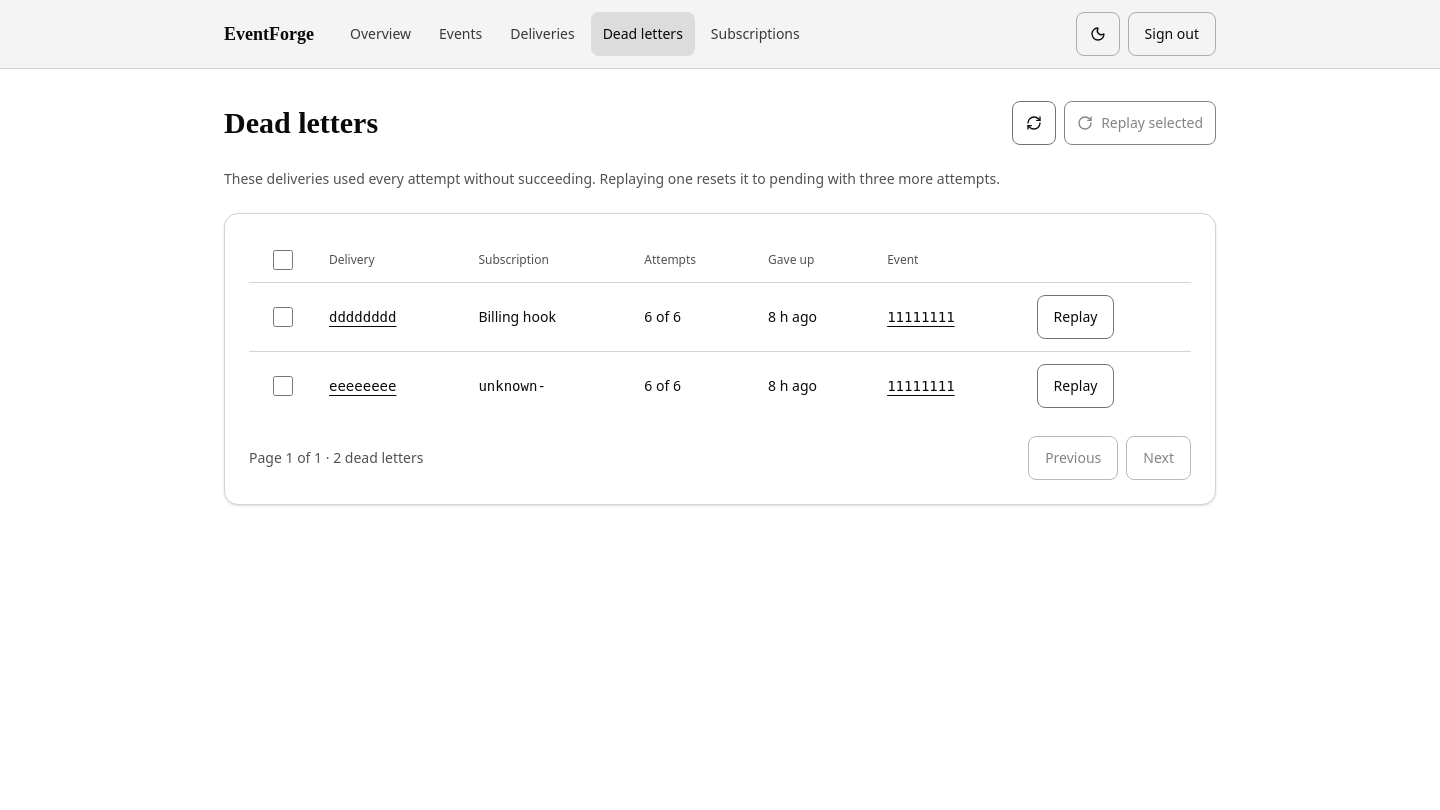
it: Replaying a selection › sends the chosen IDs in one request
The width and height of the screenshot is (1440, 810).
Click the checkbox named "Select all on this page" at {"x": 283, "y": 260}, box top-left (273, 250), bottom-right (293, 270)
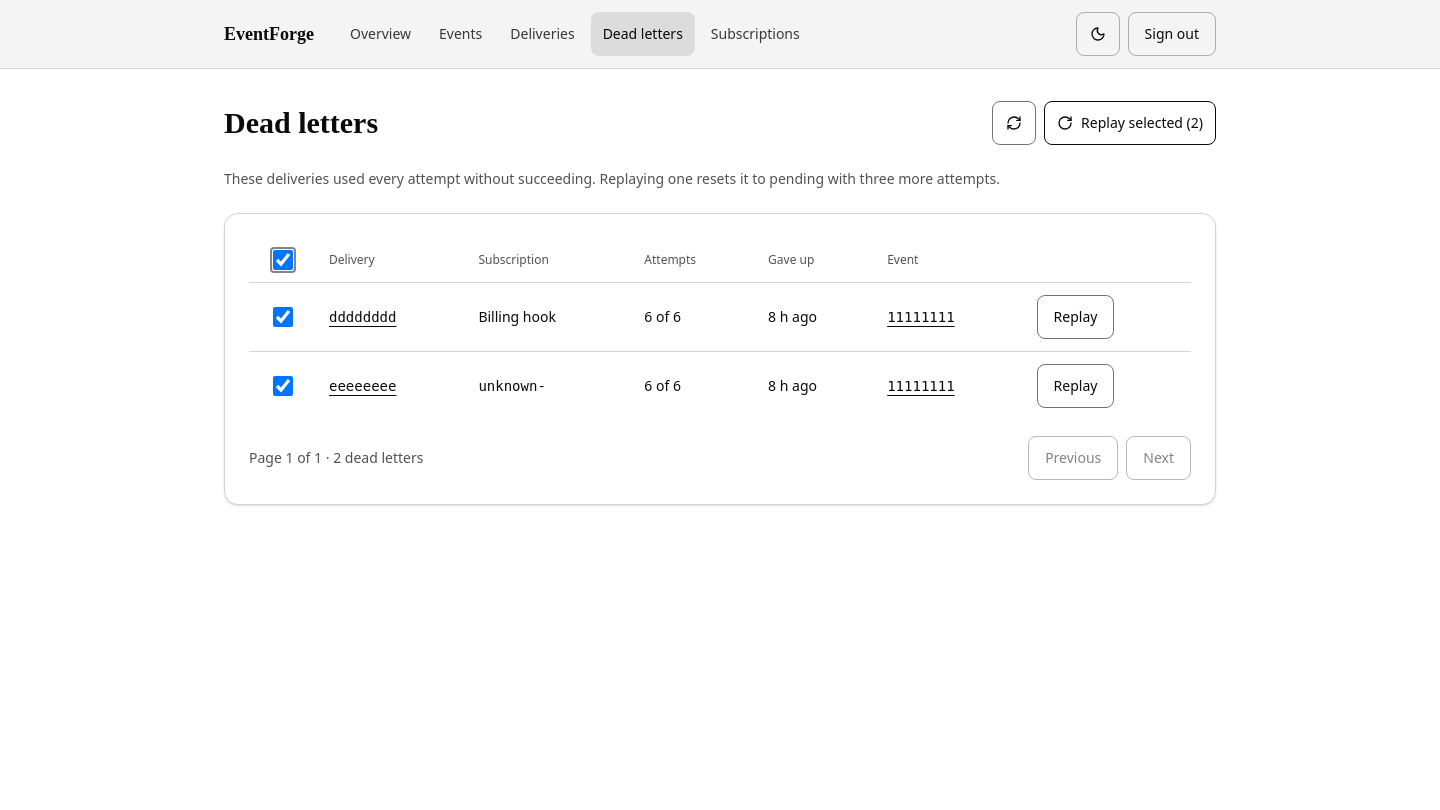
Click the button "Replay selected (2)" at {"x": 1130, "y": 123}, box top-left (1044, 101), bottom-right (1216, 145)
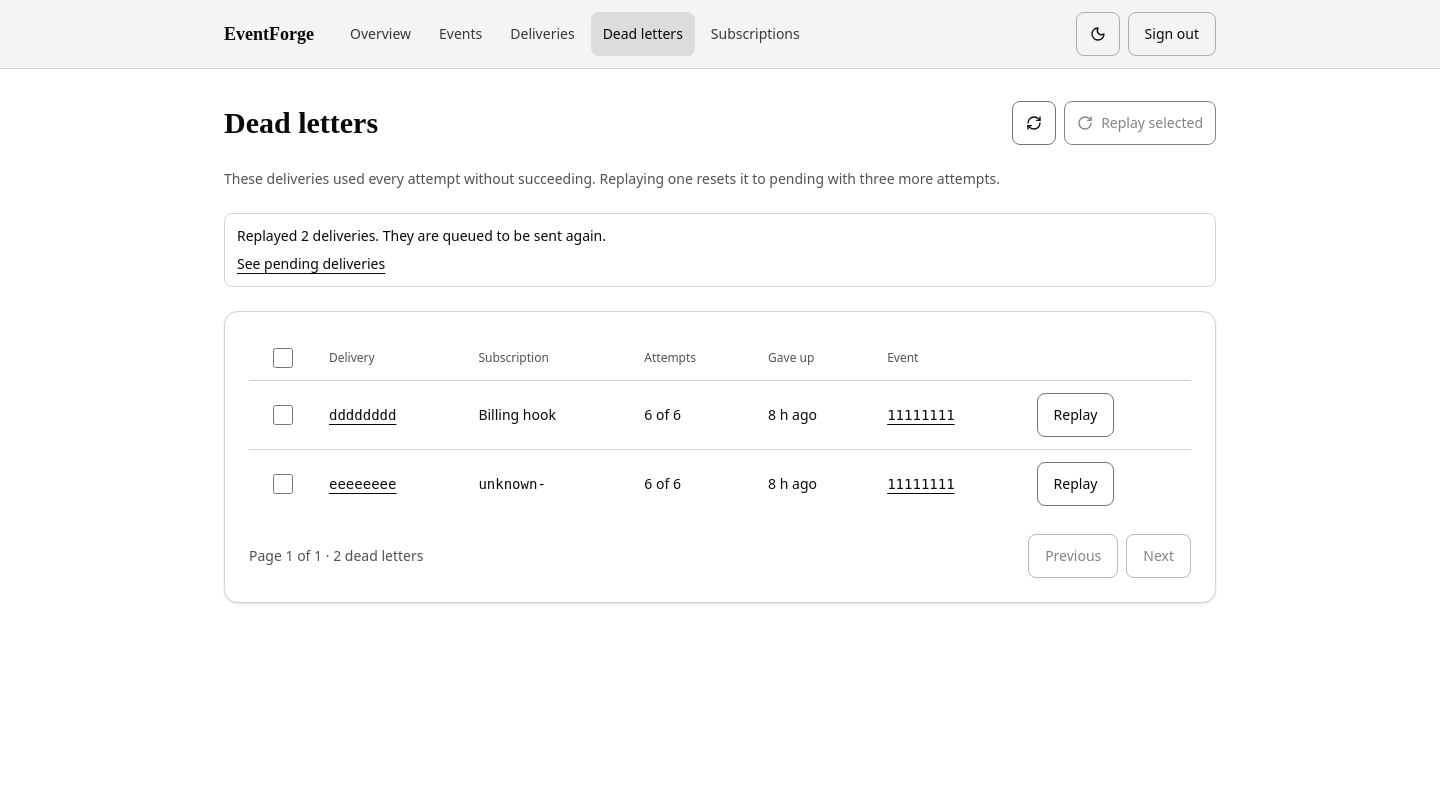
Check: the text "Replayed 2 deliveries. They are queued to be sent again." is shown, box top-left (237, 226), bottom-right (606, 245)
Check: the button "Replay selected" is disabled, box top-left (1064, 101), bottom-right (1216, 145)
